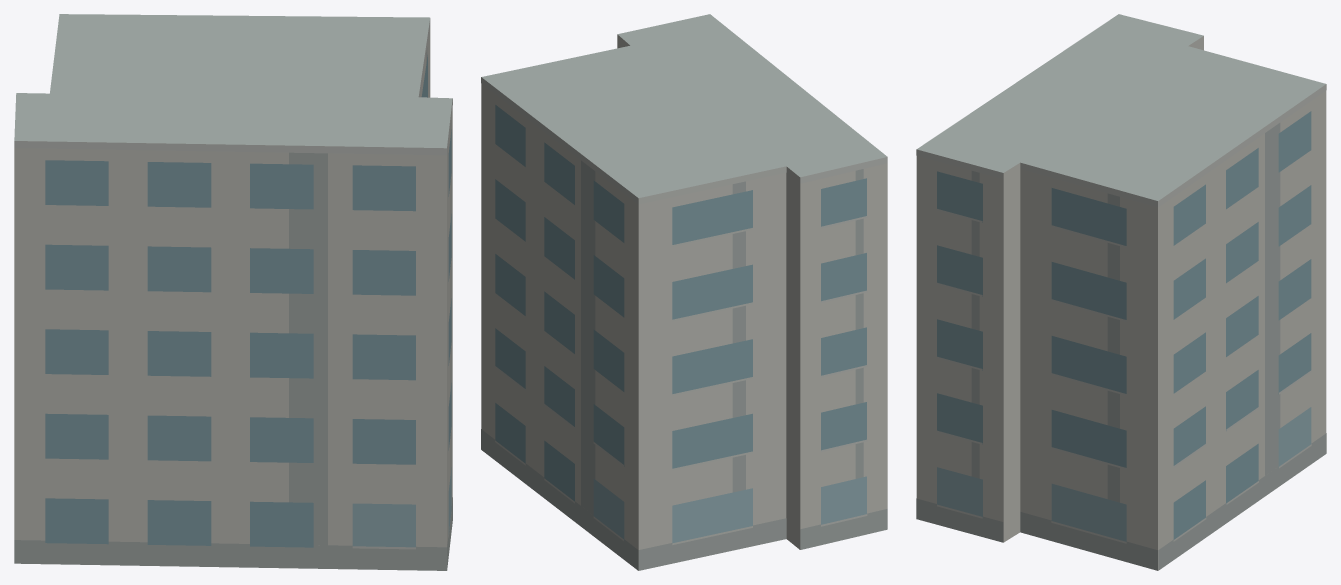
Rendered from survey-upis-33001535.glb.
3 renders of one model, left to right at view 1: azimuth 30°, elevation 25°; view 2: azimuth 150°, elevation 25°; view 3: azimuth 270°, elevation 25°, orthographic. The views are drawn at different scales.
Visible parts, largest first — view 1: survey-upis-33001535.tmp; view 2: survey-upis-33001535.tmp; view 3: survey-upis-33001535.tmp.
Boxes of the visible parts, x1=… form: survey-upis-33001535.tmp: x1=14, y1=14, x2=452, y2=570; survey-upis-33001535.tmp: x1=481, y1=14, x2=887, y2=570; survey-upis-33001535.tmp: x1=916, y1=14, x2=1326, y2=570.
Bounding box in the file's own units: 15.53 × 14.3 × 14.38.
